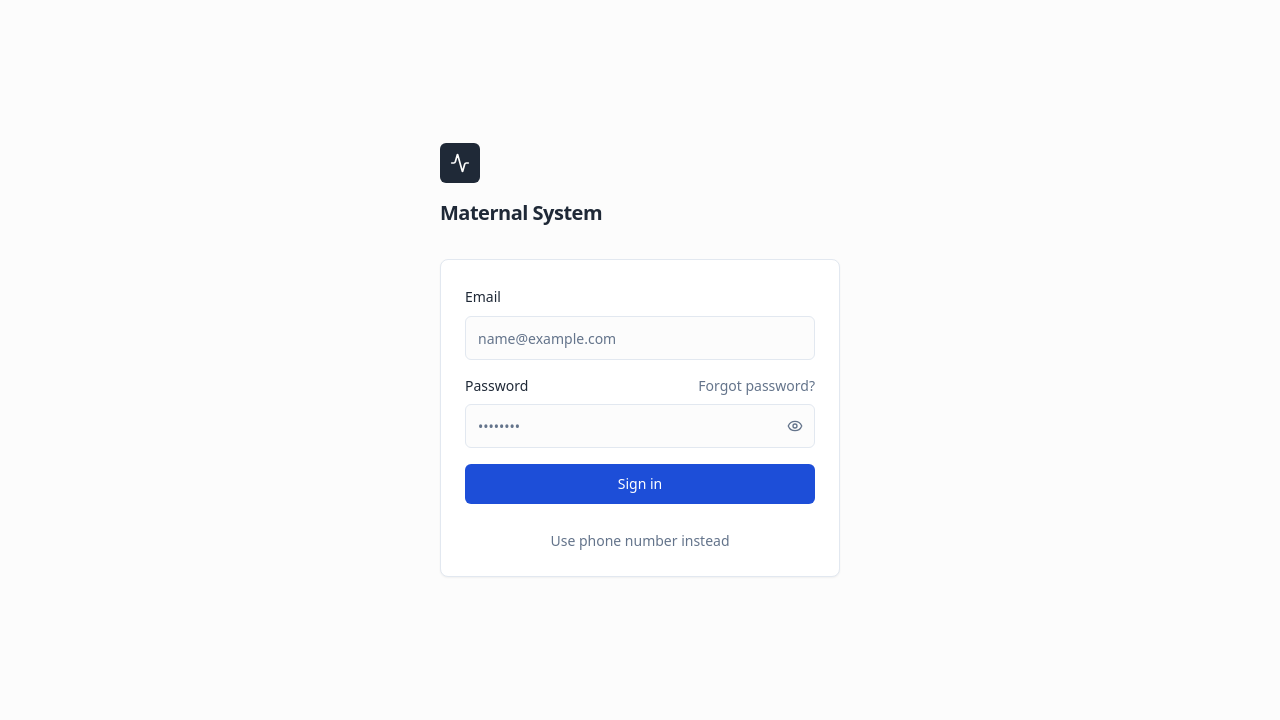
Test: Login Flow › shows MFA setup for ADMIN users on first login
Type "admin@example.com" into the field with id "identifier" at (640, 338), box [465, 316, 815, 360]
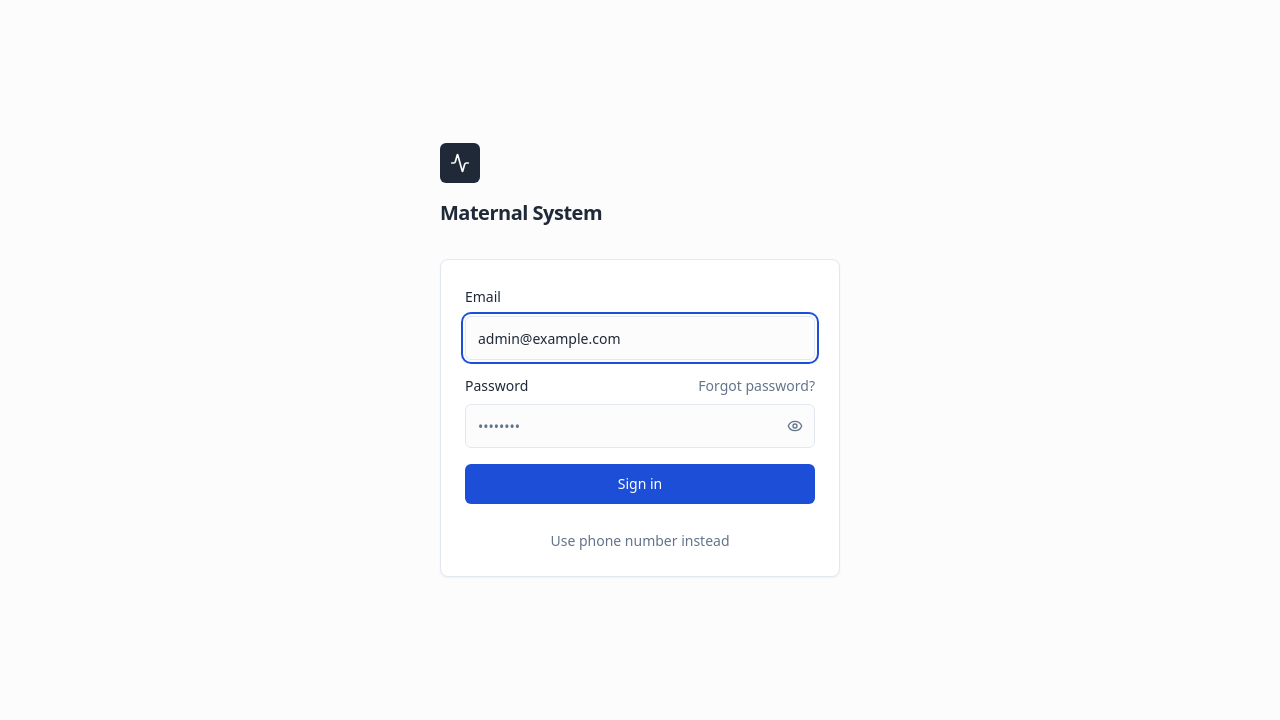
Type "AdminPass1" into the password field labelled "Password" at (640, 426), box [465, 404, 815, 448]
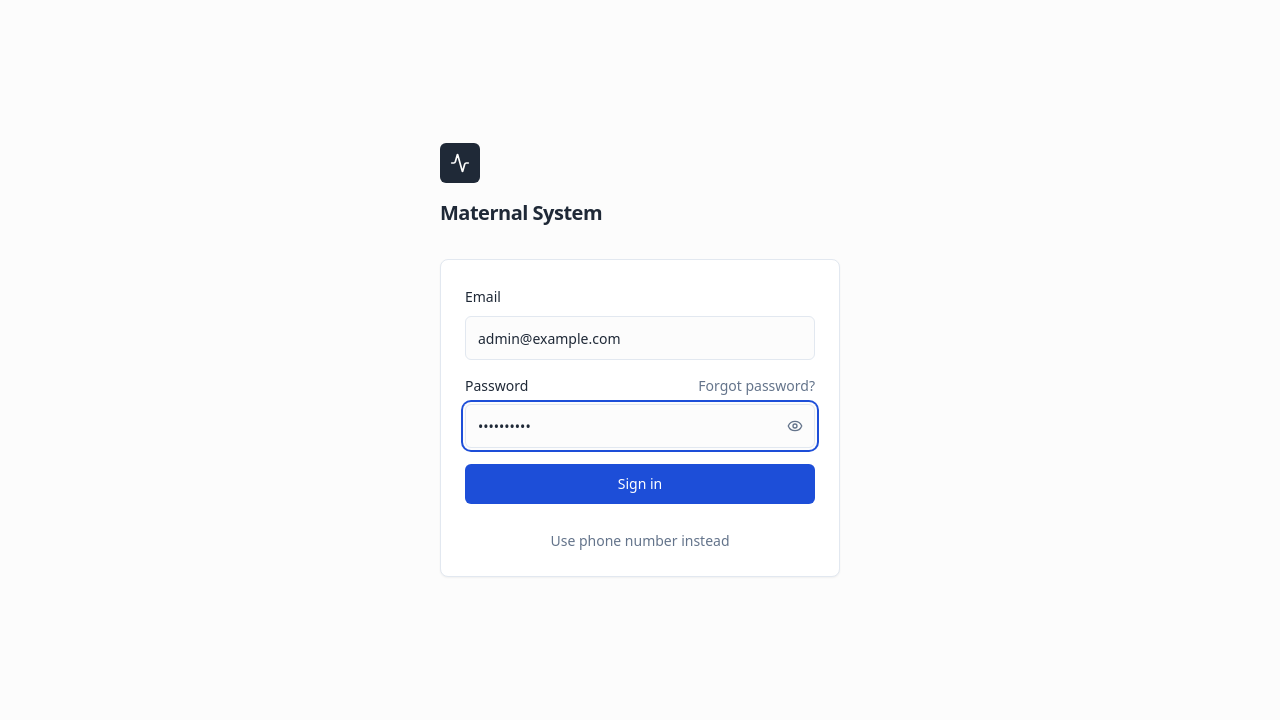
Click the button with id "login-submit" at (640, 484), box [465, 464, 815, 504]
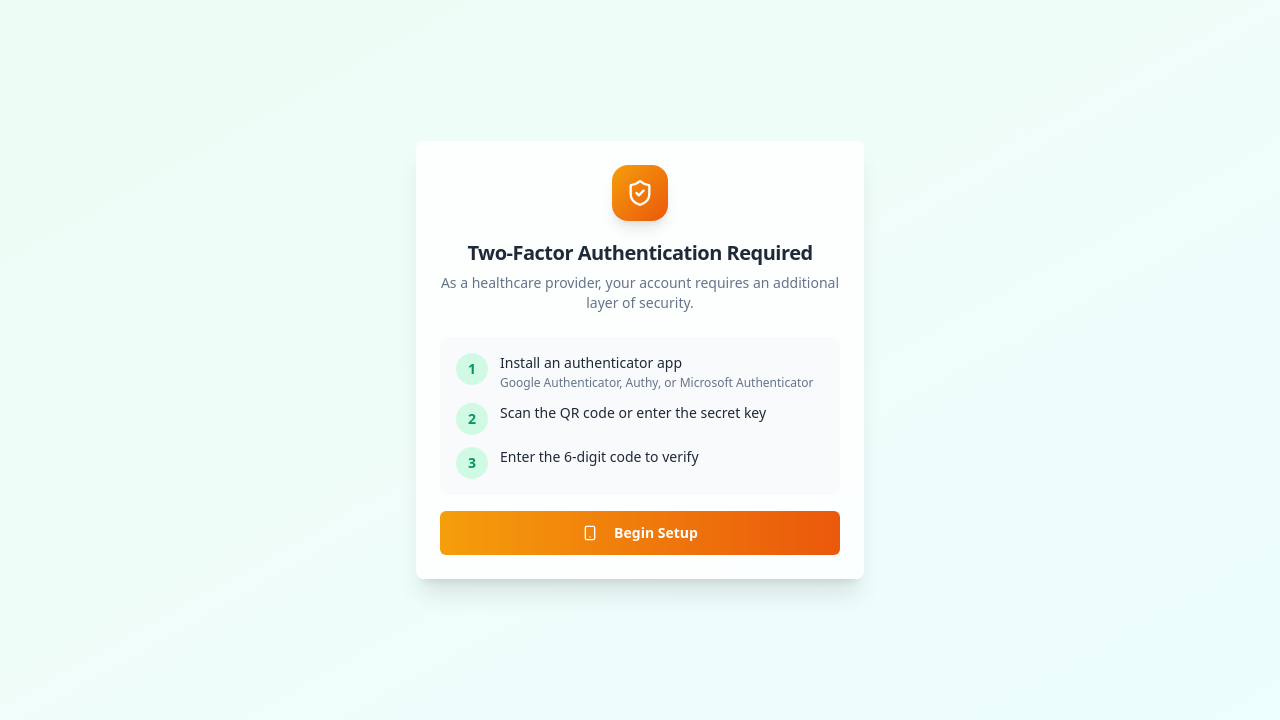
Check: the text "Two-Factor Authentication Required" is shown, box [440, 239, 840, 267]
Check: the button "Begin Setup" is shown, box [440, 511, 840, 555]
